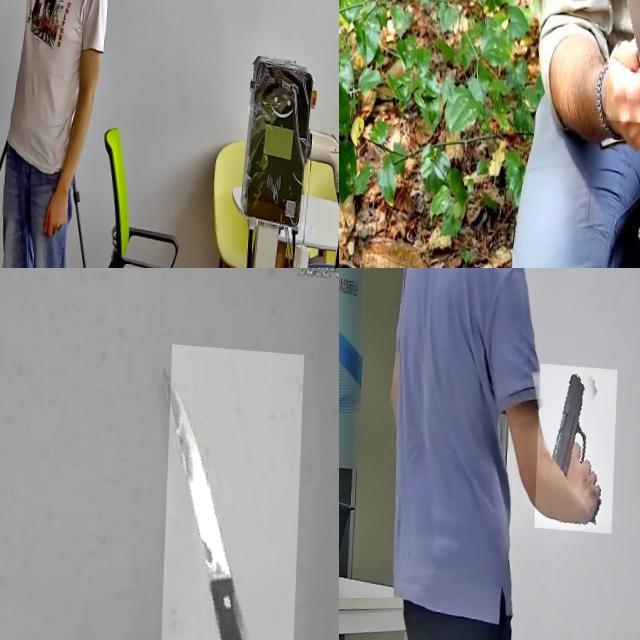-: (160, 338, 305, 640), (608, 0, 640, 119)
gun-knife-thesis - v11 Yolov5 augmented: (537, 358, 618, 528), (0, 0, 26, 36)
